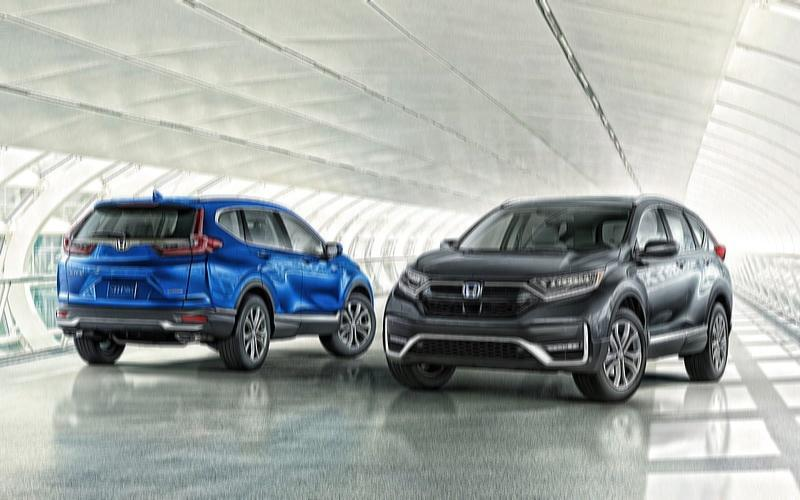Car boot: (56, 193, 202, 317)
Car hood: (408, 247, 625, 280)
Driver-s door - -F-R-: (286, 209, 346, 320)
Fender - -F-L-: (599, 244, 652, 366)
Fender - -F-R-: (337, 255, 365, 331)
Front bumper: (381, 301, 610, 383), (357, 276, 380, 311)
Headlight - -L-: (525, 263, 612, 306)
Headlight - -R-: (395, 261, 438, 305)
Passenger-s door - -F-L-: (636, 197, 686, 345)
Passenger-s door - -R-L-: (681, 202, 720, 339)
Passenger-s door - -R-R-: (240, 202, 304, 325)
Rear bumper: (47, 267, 241, 347)
Rear light - -L-: (60, 201, 106, 258), (709, 236, 737, 266)
Rear light - -R-: (148, 203, 225, 258)
Side bumper - -R-: (266, 307, 352, 337)
Side mirror - -L-: (632, 322, 718, 367), (639, 232, 682, 264)
Side mirror - -R-: (427, 235, 466, 257), (321, 235, 345, 265)
